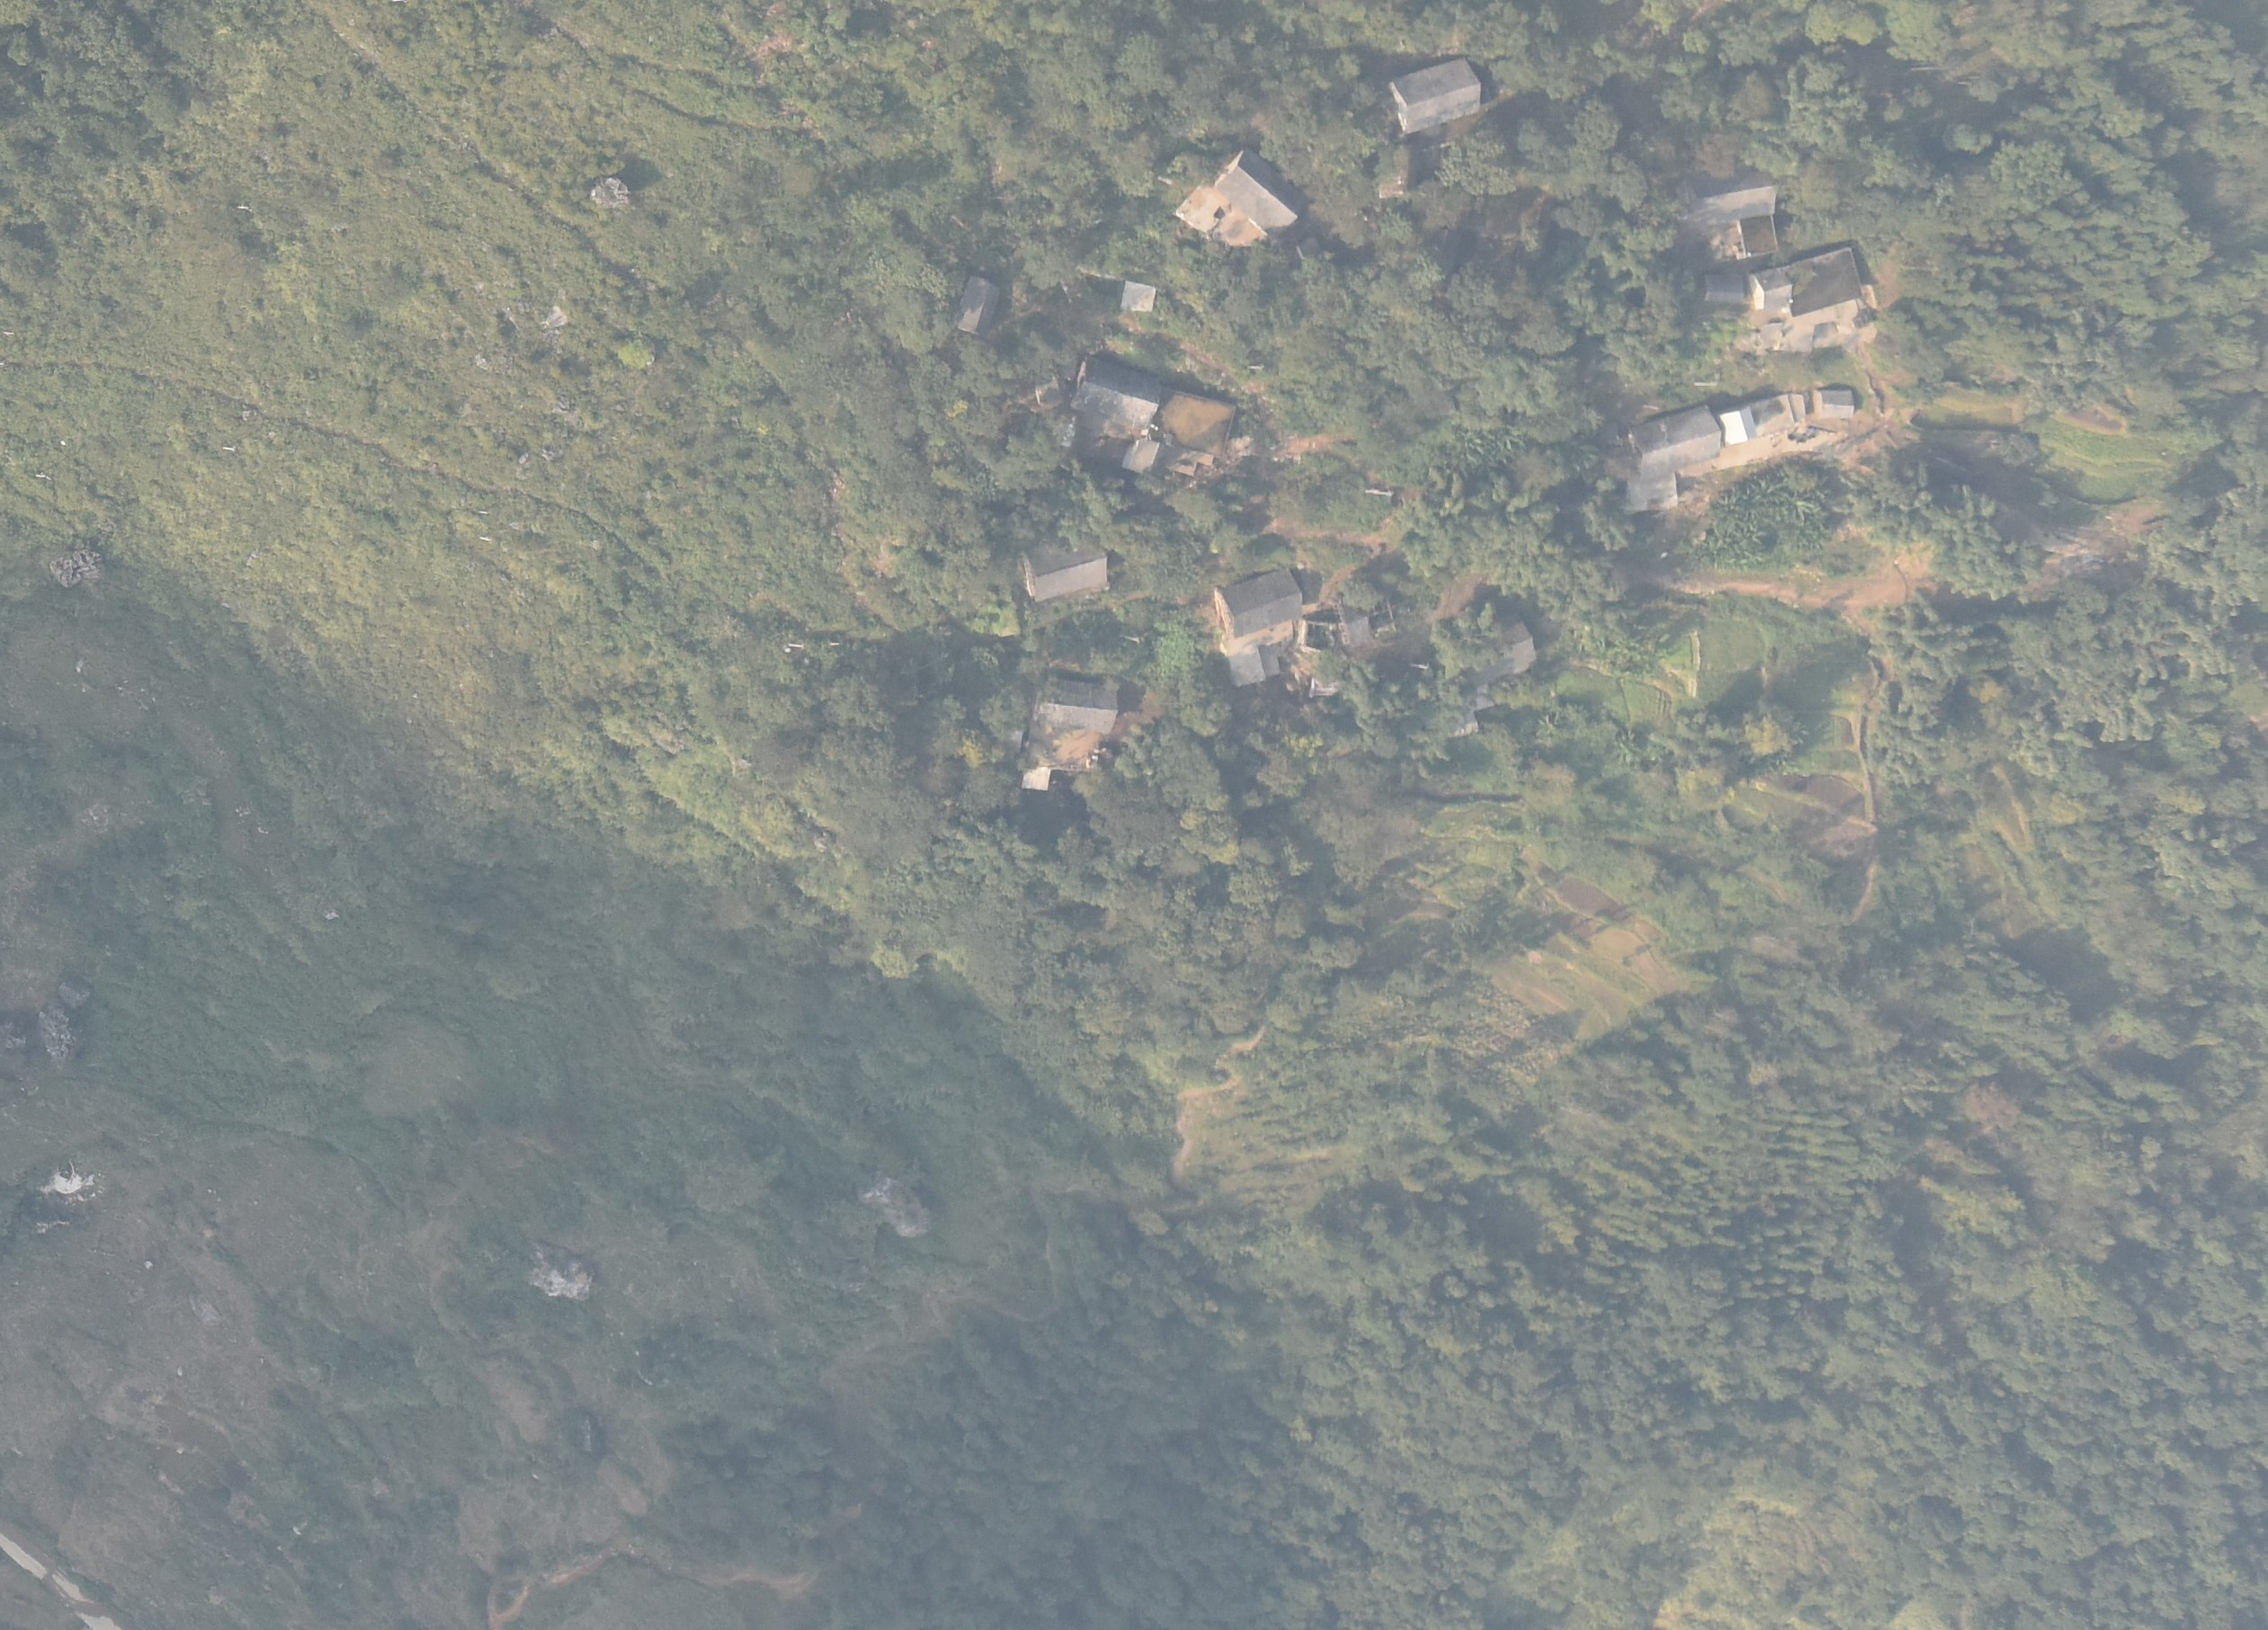building: (1213, 137, 1315, 236), (1205, 562, 1314, 639), (1387, 53, 1486, 138), (1624, 404, 1733, 477), (1070, 354, 1166, 434), (1146, 380, 1242, 458), (1668, 166, 1787, 227), (1019, 532, 1119, 604), (1781, 246, 1869, 318), (1036, 667, 1128, 735), (1454, 605, 1535, 682), (1335, 590, 1405, 649), (946, 271, 1003, 334), (1744, 269, 1797, 316), (1734, 214, 1784, 262), (1119, 436, 1167, 478), (1705, 272, 1755, 309), (1810, 387, 1859, 421)
prefabricated-house: (1715, 405, 1765, 445)
